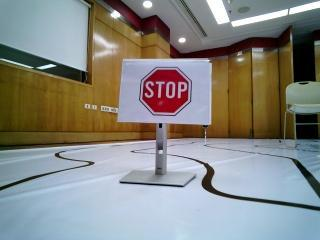stop: (124, 60, 211, 126)
